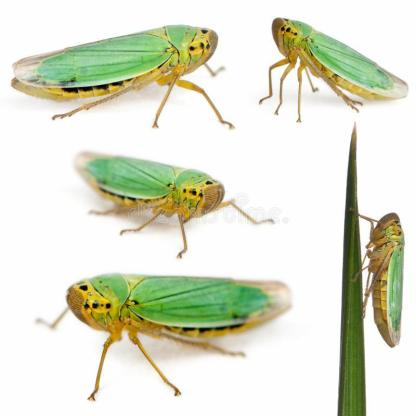Green-Leafhopper: (34, 276, 296, 400), (9, 21, 237, 132), (72, 151, 278, 260), (257, 17, 411, 123), (353, 205, 413, 356)
